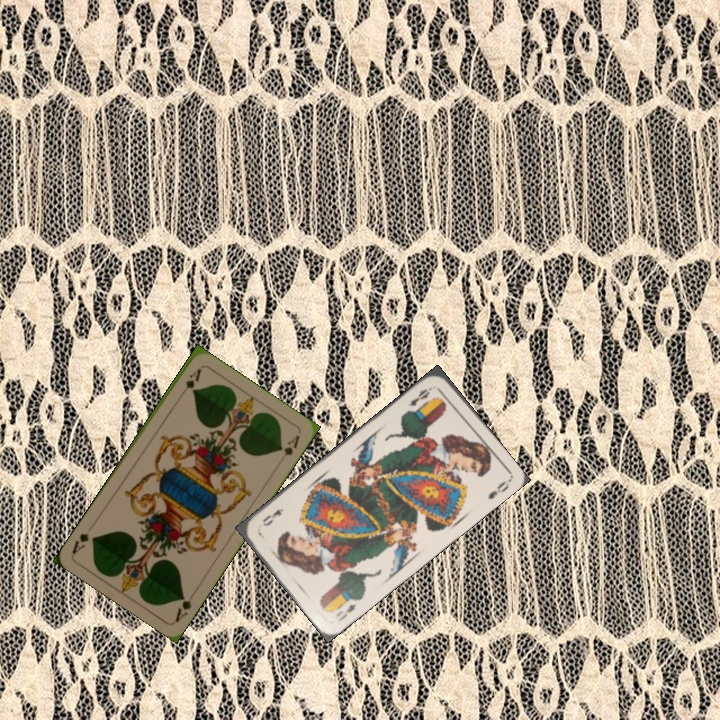EO: (403, 382, 435, 409), (332, 599, 359, 624)
GA: (176, 364, 204, 400), (171, 588, 198, 624)
